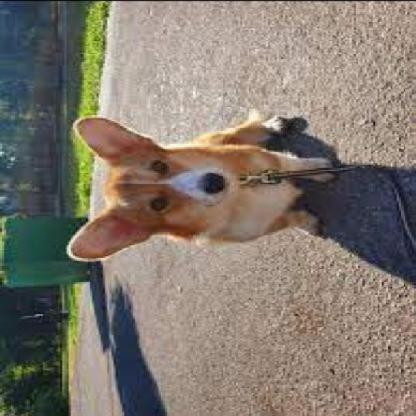dog: (66, 115, 336, 264)
